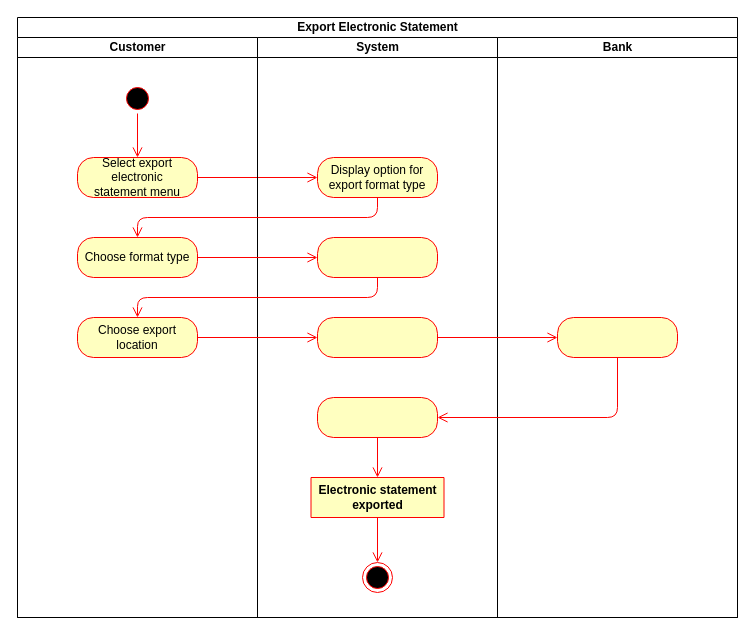
This 755x635 diagram has some shape labels left out. Each missing label, with the centre of its shape:
Display menu to select export location: the point at 377,257
Export transaction history as electronic statement: the point at 377,417
Request relevant transaction history: the point at 377,337
Return requested transaction history: the point at 617,337
